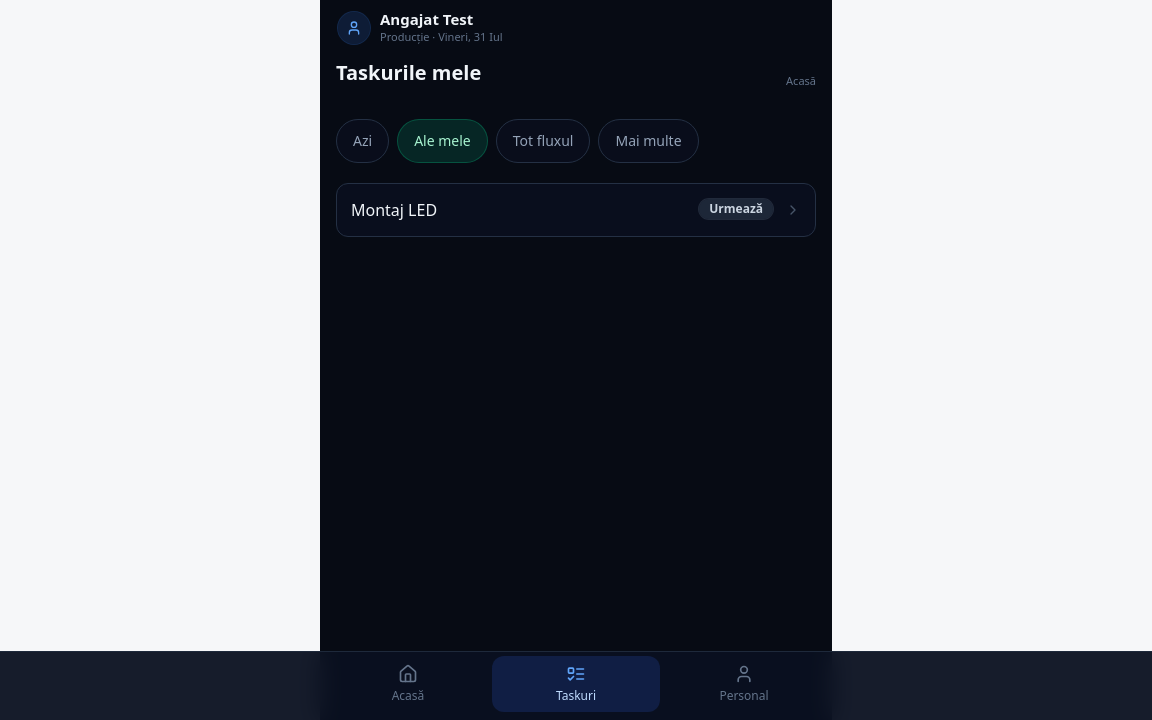
Test: EmployeeMobileApp shell › shows documents list with open link only when url exists
This screenshot has width=1152, height=720.
What coordinates should you click on to do the following:
click the button with test id "employee-mobile-task-card-T-006"
I would click on:
 (394, 210)
Its box is [337, 184, 815, 236].
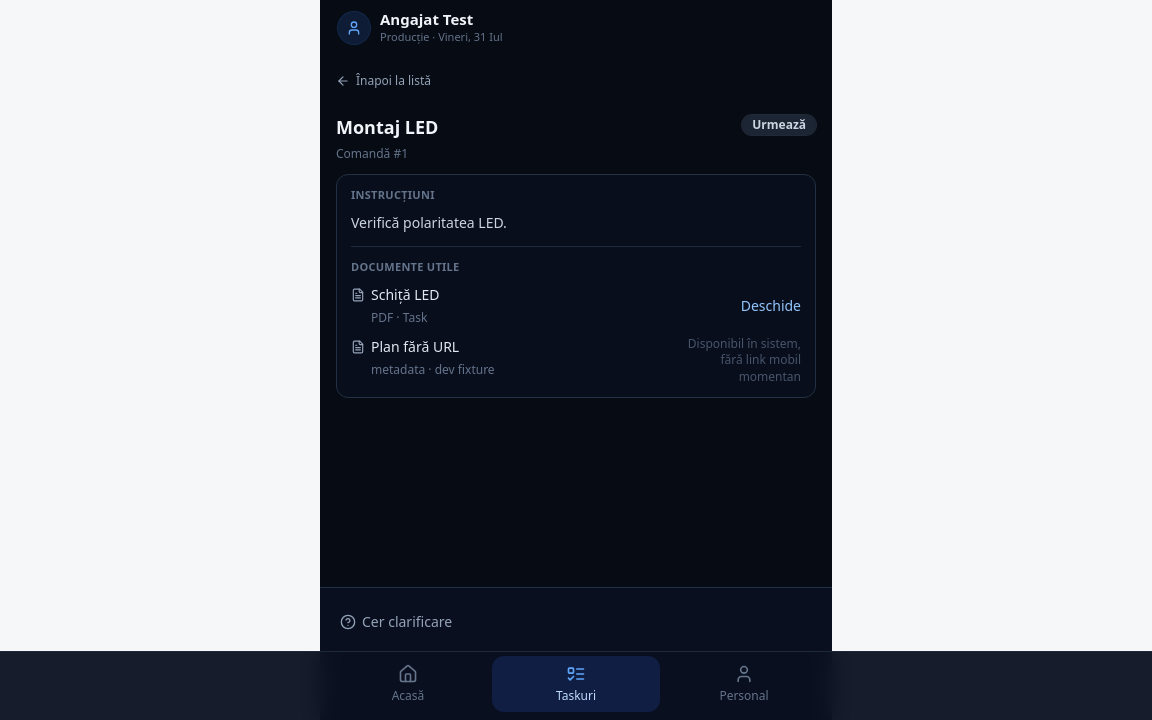
expect the text with test id "employee-mobile-task-instructions-content" shows "Verifică polaritatea LED": met, box [351, 212, 507, 232]
expect the list with test id "employee-mobile-task-documents-list" is shown: met, box [351, 284, 801, 385]
expect the text with test id "employee-mobile-task-document-meta-doc-2" shows "fără link mobil momentan": met, box [688, 335, 801, 385]
